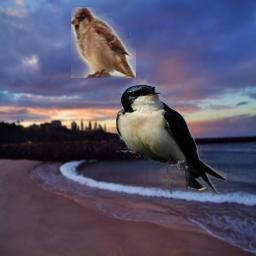Sparrow: (71, 7, 136, 78)
Swallow: (116, 84, 227, 194)
